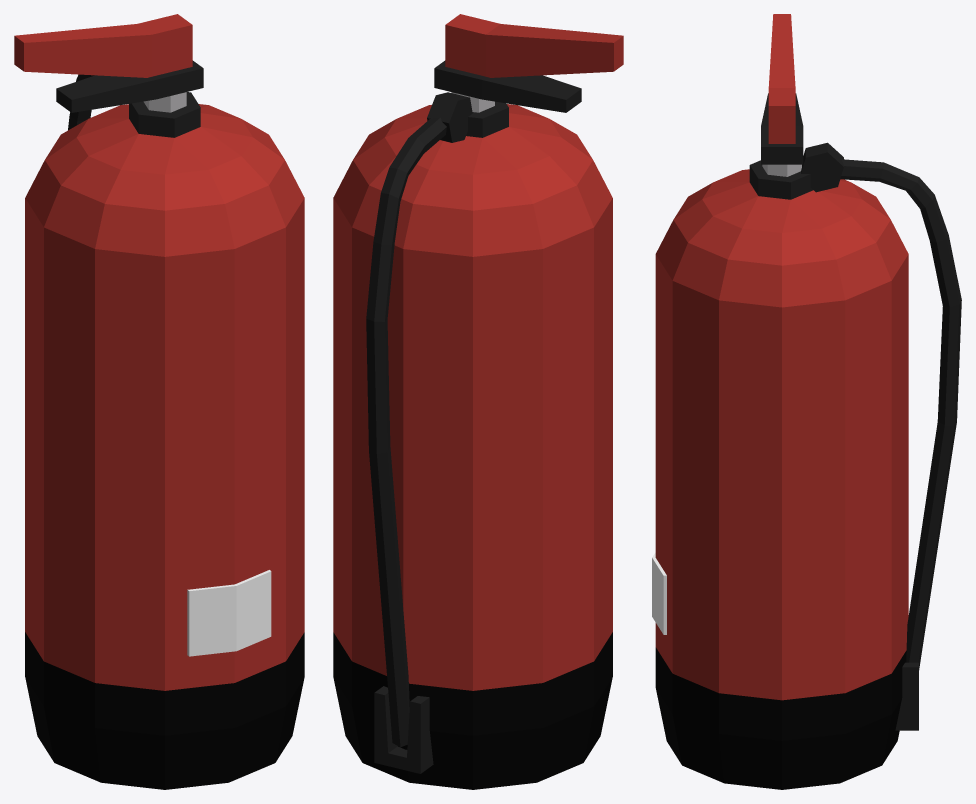
Rendered from SM_FireExtinguisher_01.glb.
3 renders of one model, left to right at view 1: azimuth 30°, elevation 25°; view 2: azimuth 150°, elevation 25°; view 3: azimuth 270°, elevation 25°, orthographic. The views are drawn at different scales.
Visible parts, largest first — view 1: SM_FireExtinguisher_01; view 2: SM_FireExtinguisher_01; view 3: SM_FireExtinguisher_01.
Part boxes in pixels (<box>): SM_FireExtinguisher_01: <box>14,14,304,789</box>; SM_FireExtinguisher_01: <box>333,14,623,789</box>; SM_FireExtinguisher_01: <box>652,14,961,789</box>.
Bounding box in the file's own units: 0.2759 × 0.7238 × 0.3065.
Materials: 1 (1 with a texture image).
